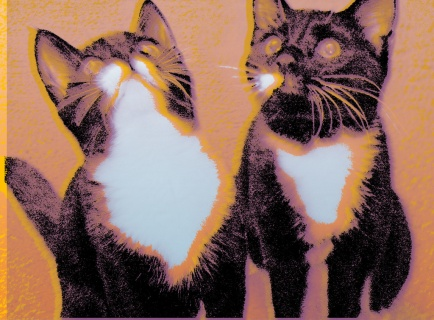Cat: (0, 0, 241, 319), (234, 0, 411, 319)
